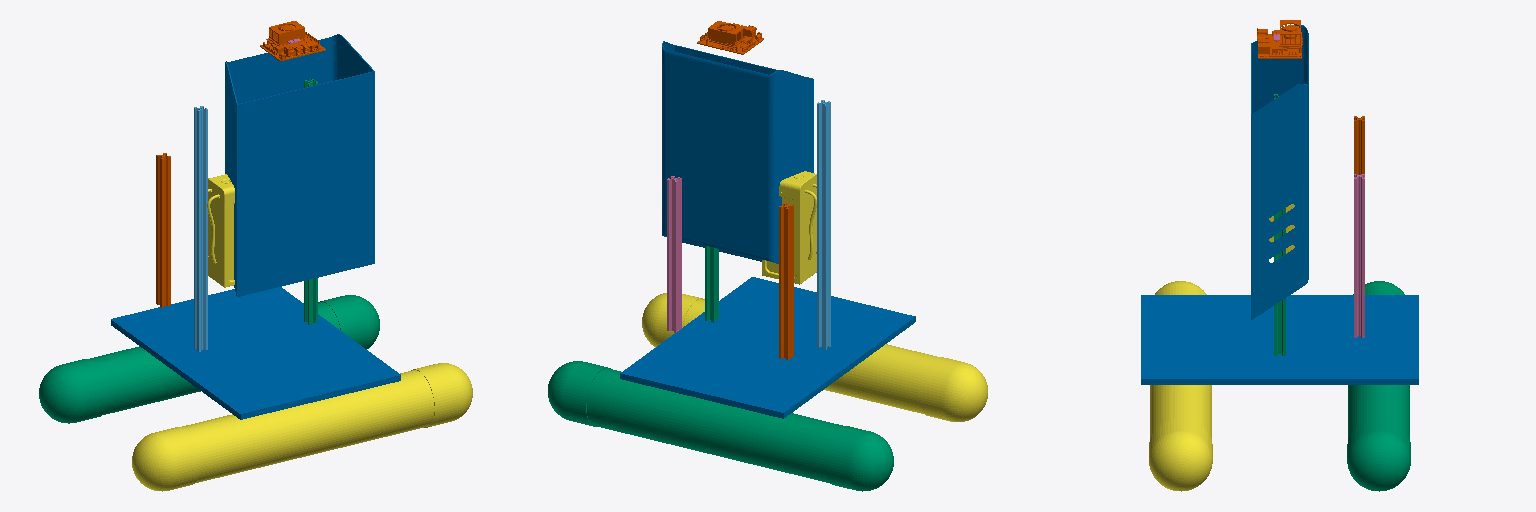
robot.urdf — asv_station_keeping_diag:
<?xml version='1.0' encoding='utf-8'?>
<robot name="asv_station_keeping_diag">
  <!-- Mesh-loading test only. Mounting poses are estimates, not Fusion occurrence transforms. 00_base has no visuals. -->
  <link name="base_footprint" />
  <link name="base_link">
    <inertial>
      <origin xyz="0 0 0" rpy="0 0 0" />
      <mass value="0.1" />
      <inertia ixx="0.0001" ixy="0" ixz="0" iyy="0.0001" iyz="0" izz="0.0001" />
    </inertial>
  </link>
  <link name="hull_left">
    <inertial>
      <origin xyz="0.0017543 -0.0000047 -0.0000010" rpy="0 0 0" />
      <mass value="8.7513272838" />
      <inertia ixx="0.0159438897" ixy="0" ixz="0" iyy="0.7485544942" iyz="0" izz="0.7485544942" />
    </inertial>
    <visual name="hull_left_visual">
      <origin xyz="-0.971730 0.357754 -1.641617" rpy="0 0 -1.57079632679" />
      <geometry>
        <mesh filename="package://asv_station_keeping/meshes/hull.stl" scale="0.001 0.001 0.001" />
      </geometry>
    </visual>
    <collision name="hull_left_collision">
      <geometry>
        <box size="0.724805 0.112973 0.112998" />
      </geometry>
    </collision>
  </link>
  <link name="hull_right">
    <inertial>
      <origin xyz="0.0017543 -0.0000047 -0.0000010" rpy="0 0 0" />
      <mass value="8.7513272838" />
      <inertia ixx="0.0159438897" ixy="0" ixz="0" iyy="0.7485544942" iyz="0" izz="0.7485544942" />
    </inertial>
    <visual name="hull_right_visual">
      <origin xyz="-0.971730 0.357754 -1.641617" rpy="0 0 -1.57079632679" />
      <geometry>
        <mesh filename="package://asv_station_keeping/meshes/hull.stl" scale="0.001 0.001 0.001" />
      </geometry>
    </visual>
    <collision name="hull_right_collision">
      <geometry>
        <box size="0.724805 0.112973 0.112998" />
      </geometry>
    </collision>
  </link>
  <link name="base_deck">
    <inertial>
      <origin xyz="0 0 0" rpy="0 0 0" />
      <mass value="16.1553" />
      <inertia ixx="0.3234344911" ixy="0" ixz="0" iyy="0.1651125511" iyz="0" izz="0.4881593150" />
    </inertial>
    <visual name="base_deck_visual">
      <origin xyz="-0.142254 -0.216347 -0.006000" rpy="1.57079632679 0 0" />
      <geometry>
        <mesh filename="package://asv_station_keeping/meshes/base_deck.stl" scale="0.001 0.001 0.001" />
      </geometry>
    </visual>
    <collision name="base_deck_collision">
      <geometry>
        <box size="0.350 0.490 0.012" />
      </geometry>
    </collision>
  </link>
  <link name="frame1_left">
    <inertial>
      <origin xyz="0 0 0" />
      <mass value="0.41469714" />
      <inertia ixx="0.00333785" ixy="0" ixz="0" iyy="0.00333785" iyz="0" izz="0.0000336422" />
    </inertial>
    <visual>
      <geometry>
        <mesh filename="package://asv_station_keeping/meshes/frame1.stl" scale="0.001 0.001 0.001" />
      </geometry>
    </visual>
    <collision>
      <geometry>
        <cylinder radius="0.010" length="0.310" />
      </geometry>
    </collision>
  </link>
  <link name="frame1_right">
    <inertial>
      <origin xyz="0 0 0" />
      <mass value="0.41469714" />
      <inertia ixx="0.00333785" ixy="0" ixz="0" iyy="0.00333785" iyz="0" izz="0.0000336422" />
    </inertial>
    <visual>
      <geometry>
        <mesh filename="package://asv_station_keeping/meshes/frame1.stl" scale="0.001 0.001 0.001" />
      </geometry>
    </visual>
    <collision>
      <geometry>
        <cylinder radius="0.010" length="0.310" />
      </geometry>
    </collision>
  </link>
  <link name="frame2_left">
    <inertial>
      <origin xyz="0 0 0" />
      <mass value="0.66886635" />
      <inertia ixx="0.01396185" ixy="0" ixz="0" iyy="0.01396185" iyz="0" izz="0.000054262" />
    </inertial>
    <visual>
      <geometry>
        <mesh filename="package://asv_station_keeping/meshes/frame2.stl" scale="0.001 0.001 0.001" />
      </geometry>
    </visual>
    <collision>
      <geometry>
        <cylinder radius="0.010" length="0.500" />
      </geometry>
    </collision>
  </link>
  <link name="frame2_right">
    <inertial>
      <origin xyz="0 0 0" />
      <mass value="0.66886635" />
      <inertia ixx="0.01396185" ixy="0" ixz="0" iyy="0.01396185" iyz="0" izz="0.000054262" />
    </inertial>
    <visual>
      <geometry>
        <mesh filename="package://asv_station_keeping/meshes/frame2.stl" scale="0.001 0.001 0.001" />
      </geometry>
    </visual>
    <collision>
      <geometry>
        <cylinder radius="0.010" length="0.500" />
      </geometry>
    </collision>
  </link>
  <link name="frame3_left">
    <inertial>
      <origin xyz="0 0 0" />
      <mass value="0.66886635" />
      <inertia ixx="0.01396185" ixy="0" ixz="0" iyy="0.01396185" iyz="0" izz="0.000054262" />
    </inertial>
    <visual>
      <geometry>
        <mesh filename="package://asv_station_keeping/meshes/frame3.stl" scale="0.001 0.001 0.001" />
      </geometry>
    </visual>
    <collision>
      <geometry>
        <cylinder radius="0.010" length="0.500" />
      </geometry>
    </collision>
  </link>
  <link name="frame3_right">
    <inertial>
      <origin xyz="0 0 0" />
      <mass value="0.66886635" />
      <inertia ixx="0.01396185" ixy="0" ixz="0" iyy="0.01396185" iyz="0" izz="0.000054262" />
    </inertial>
    <visual>
      <geometry>
        <mesh filename="package://asv_station_keeping/meshes/frame3.stl" scale="0.001 0.001 0.001" />
      </geometry>
    </visual>
    <collision>
      <geometry>
        <cylinder radius="0.010" length="0.500" />
      </geometry>
    </collision>
  </link>
  <link name="battery">
    <inertial>
      <origin xyz="0.011821 0 0.000846" />
      <mass value="8.29420474" />
      <inertia ixx="0.0317350" ixy="0" ixz="0.0000687" iyy="0.0339037" iyz="0" izz="0.00778636" />
    </inertial>
    <visual>
      <origin xyz="0.012244 -0.035000 -0.000150" />
      <geometry>
        <mesh filename="package://asv_station_keeping/meshes/battery.stl" scale="0.001 0.001 0.001" />
      </geometry>
    </visual>
    <collision>
      <geometry>
        <box size="0.109 0.070 0.202" />
      </geometry>
    </collision>
  </link>
  <link name="electronics">
    <inertial>
      <origin xyz="0 -0.005565 -0.000224" />
      <mass value="4.50915118" />
      <inertia ixx="0.0697094" ixy="0" ixz="0" iyy="0.1035140" iyz="-0.00452282" izz="0.0519051" />
    </inertial>
    <visual>
      <origin xyz="0 -0.051000 -0.023578" />
      <geometry>
        <mesh filename="package://asv_station_keeping/meshes/electronics.stl" scale="0.001 0.001 0.001" />
      </geometry>
    </visual>
    <collision>
      <geometry>
        <box size="0.300 0.102 0.447" />
      </geometry>
    </collision>
  </link>
  <link name="jetson_nano">
    <inertial>
      <origin xyz="-0.001623 0.002547 -0.004382" />
      <mass value="0.55767391" />
      <inertia ixx="0.00033845" ixy="0.000000893" ixz="0.00000257" iyy="0.00033690" iyz="-0.00004065" izz="0.00056875" />
    </inertial>
    <visual>
      <origin xyz="-0.004000 -0.007385 -0.025097" />
      <geometry>
        <mesh filename="package://asv_station_keeping/meshes/Jetson-Nano.stl" scale="0.001 0.001 0.001" />
      </geometry>
    </visual>
    <collision>
      <geometry>
        <box size="0.100 0.080 0.040" />
      </geometry>
    </collision>
  </link>
  <link name="imu_link">
    <inertial>
      <origin xyz="-0.00000256 0.00000402 0" />
      <mass value="0.00700317" />
      <inertia ixx="0.0000002895" ixy="0.000000000021" ixz="0" iyy="0.0000003634" iyz="0" izz="0.0000006497" />
    </inertial>
    <visual>
      <geometry>
        <mesh filename="package://asv_station_keeping/meshes/imu_Adafruit-BNO085-STEMMA-QT.step_Printed-Circuit-Board.step.stl" scale="0.001 0.001 0.001" />
      </geometry>
    </visual>
    <collision>
      <geometry>
        <box size="0.0254 0.0229 0.00165" />
      </geometry>
    </collision>
  </link>
  <joint name="base_footprint_to_base_link" type="fixed">
    <parent link="base_footprint" />
    <child link="base_link" />
    <origin xyz="0 0 0" rpy="0 0 0" />
  </joint>
  <joint name="base_to_hull_left" type="fixed">
    <parent link="base_link" />
    <child link="hull_left" />
    <origin xyz="0 0.175 0.055" rpy="0 0 0" />
  </joint>
  <joint name="base_to_hull_right" type="fixed">
    <parent link="base_link" />
    <child link="hull_right" />
    <origin xyz="0 -0.175 0.055" rpy="0 0 0" />
  </joint>
  <joint name="base_to_base_deck" type="fixed">
    <parent link="base_link" />
    <child link="base_deck" />
    <origin xyz="0 0 0.145" rpy="0 0 0" />
  </joint>
  <joint name="deck_to_frame1_left" type="fixed">
    <parent link="base_deck" />
    <child link="frame1_left" />
    <origin xyz="-0.12 0.14 0.22" />
  </joint>
  <joint name="deck_to_frame1_right" type="fixed">
    <parent link="base_deck" />
    <child link="frame1_right" />
    <origin xyz="0.12 0.14 0.22" />
  </joint>
  <joint name="deck_to_frame2_left" type="fixed">
    <parent link="base_deck" />
    <child link="frame2_left" />
    <origin xyz="-0.12 -0.14 0.28" />
  </joint>
  <joint name="deck_to_frame2_right" type="fixed">
    <parent link="base_deck" />
    <child link="frame2_right" />
    <origin xyz="0.12 -0.14 0.28" />
  </joint>
  <joint name="deck_to_frame3_left" type="fixed">
    <parent link="base_deck" />
    <child link="frame3_left" />
    <origin xyz="-0.12 0 0.28" />
  </joint>
  <joint name="deck_to_frame3_right" type="fixed">
    <parent link="base_deck" />
    <child link="frame3_right" />
    <origin xyz="0.12 0 0.28" />
  </joint>
  <joint name="deck_to_battery" type="fixed">
    <parent link="base_deck" />
    <child link="battery" />
    <origin xyz="-0.06 0 0.265" />
  </joint>
  <joint name="deck_to_electronics" type="fixed">
    <parent link="base_deck" />
    <child link="electronics" />
    <origin xyz="0.08 0 0.370" />
  </joint>
  <joint name="electronics_to_jetson" type="fixed">
    <parent link="electronics" />
    <child link="jetson_nano" />
    <origin xyz="0 0 0.255" />
  </joint>
  <joint name="electronics_to_imu" type="fixed">
    <parent link="electronics" />
    <child link="imu_link" />
    <origin xyz="0 0 0.255" />
  </joint>
</robot>

--- What the picture shows (computed from the rendered views, not written in the file) ---
3 views of the same robot in one strip: view 1: azimuth 30°, elevation 25°; view 2: azimuth 150°, elevation 25°; view 3: azimuth 270°, elevation 25° (orthographic).
Robot: asv_station_keeping_diag — 15 links, 14 joints (14 fixed); root link base_footprint; default pose: all joints at 0.
Visible links, largest first — view 1: electronics, base_deck, hull_right, hull_left, frame3_left, battery, frame1_left, jetson_nano, frame3_right; view 2: electronics, base_deck, hull_left, hull_right, frame3_left, battery, frame1_left, frame1_right, jetson_nano, frame3_right; view 3: base_deck, electronics, hull_right, hull_left, frame1_right, jetson_nano, frame3_right, frame1_left.
Boxes of the visible links, x1,y1,x2,y2 form: electronics: (225, 34, 374, 296); base_deck: (111, 287, 400, 419); hull_right: (132, 363, 472, 491); hull_left: (39, 295, 379, 423); frame3_left: (194, 106, 207, 351); battery: (207, 174, 234, 287); frame1_left: (156, 153, 170, 307); jetson_nano: (260, 21, 325, 60); frame3_right: (304, 79, 317, 324); electronics: (662, 41, 813, 263); base_deck: (620, 277, 915, 418); hull_left: (548, 361, 893, 491); hull_right: (642, 293, 987, 421); frame3_left: (817, 100, 830, 349); battery: (762, 171, 816, 284); frame1_left: (779, 203, 793, 359); frame1_right: (667, 176, 681, 332); jetson_nano: (697, 21, 763, 54); frame3_right: (705, 246, 718, 322); base_deck: (1141, 295, 1418, 384); electronics: (1251, 25, 1308, 319); hull_right: (1149, 281, 1212, 491); hull_left: (1347, 281, 1410, 491); frame1_right: (1354, 174, 1364, 337); jetson_nano: (1257, 20, 1302, 58); frame3_right: (1274, 94, 1285, 355); frame1_left: (1354, 116, 1364, 174).
Size in the robot's own frame: 0.7248 by 0.49 by 0.7916 metres.
Meshes: 9 distinct files referenced, 11 mesh visuals loaded (8 binary STL); not drawn: 2 (reference not matched to a file when rendering).
